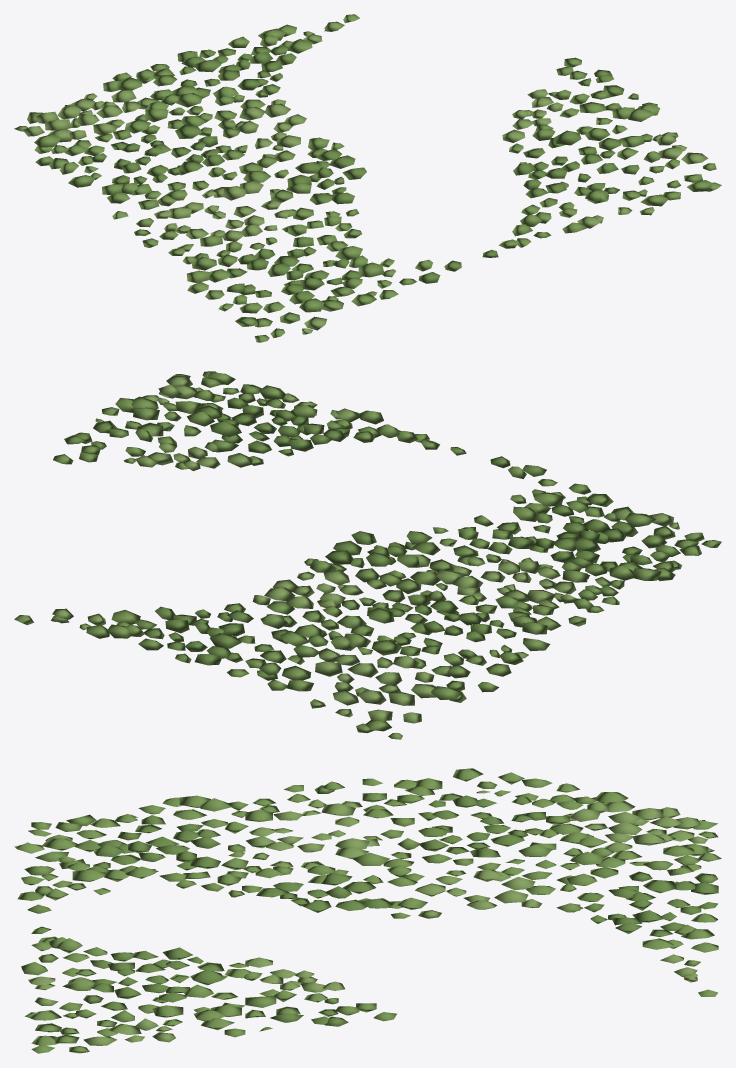
File: canopy-1-5-3.glb
3 views of the same model, one above another, from view 1: azimuth 30°, elevation 25°; view 2: azimuth 150°, elevation 25°; view 3: azimuth 270°, elevation 25° (orthographic). The views are drawn at different scales.
Size of the model in its own units: 520 by 75 by 512.
Materials: 1 (1 with a texture image).
